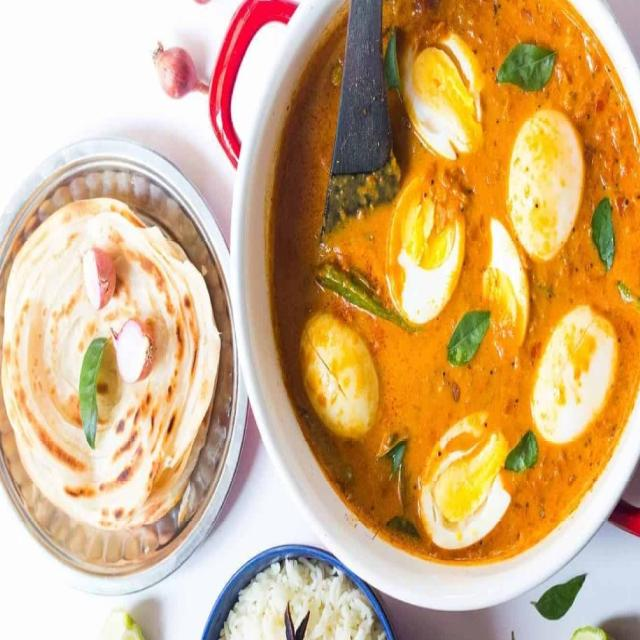EGG: (265, 0, 639, 571)
PAROTTA: (1, 195, 222, 541)
RICE: (222, 562, 377, 639)
